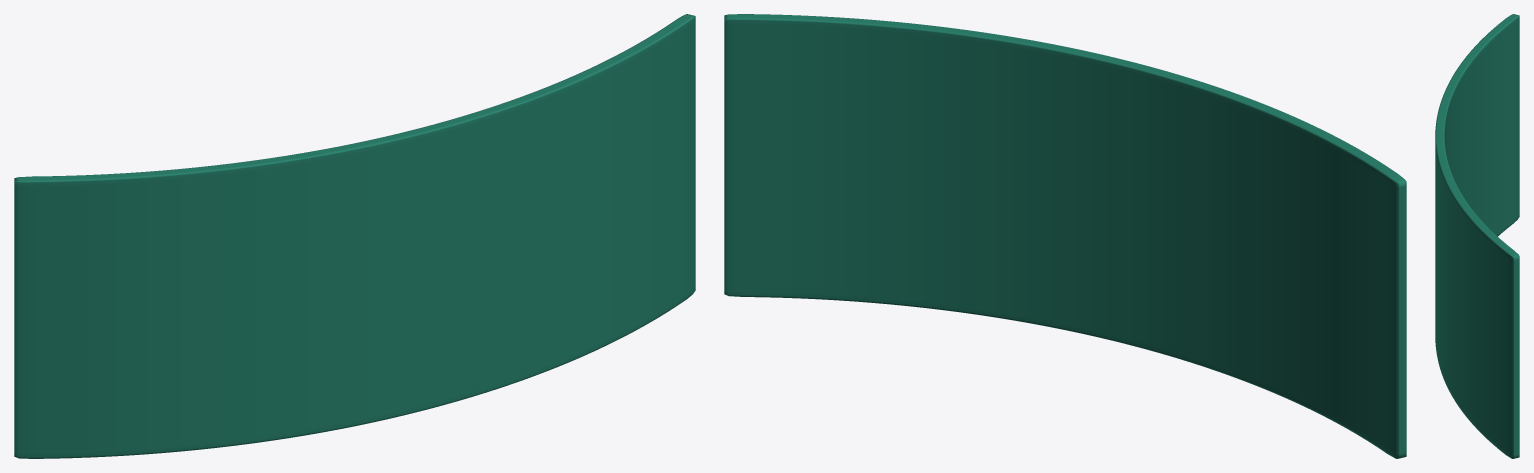
File: ClockWall.fbx
3 renders of one model, left to right at view 1: azimuth 30°, elevation 25°; view 2: azimuth 150°, elevation 25°; view 3: azimuth 270°, elevation 25°, orthographic. The views are drawn at different scales.
Parts seen in each view (by area): view 1: ClockWall; view 2: ClockWall; view 3: ClockWall.
Part boxes in pixels (x1=…): ClockWall: x1=14, y1=14, x2=695, y2=458; ClockWall: x1=724, y1=14, x2=1406, y2=458; ClockWall: x1=1435, y1=14, x2=1519, y2=458.
Bounding box in the file's own units: 30.75 × 12 × 4.5.
